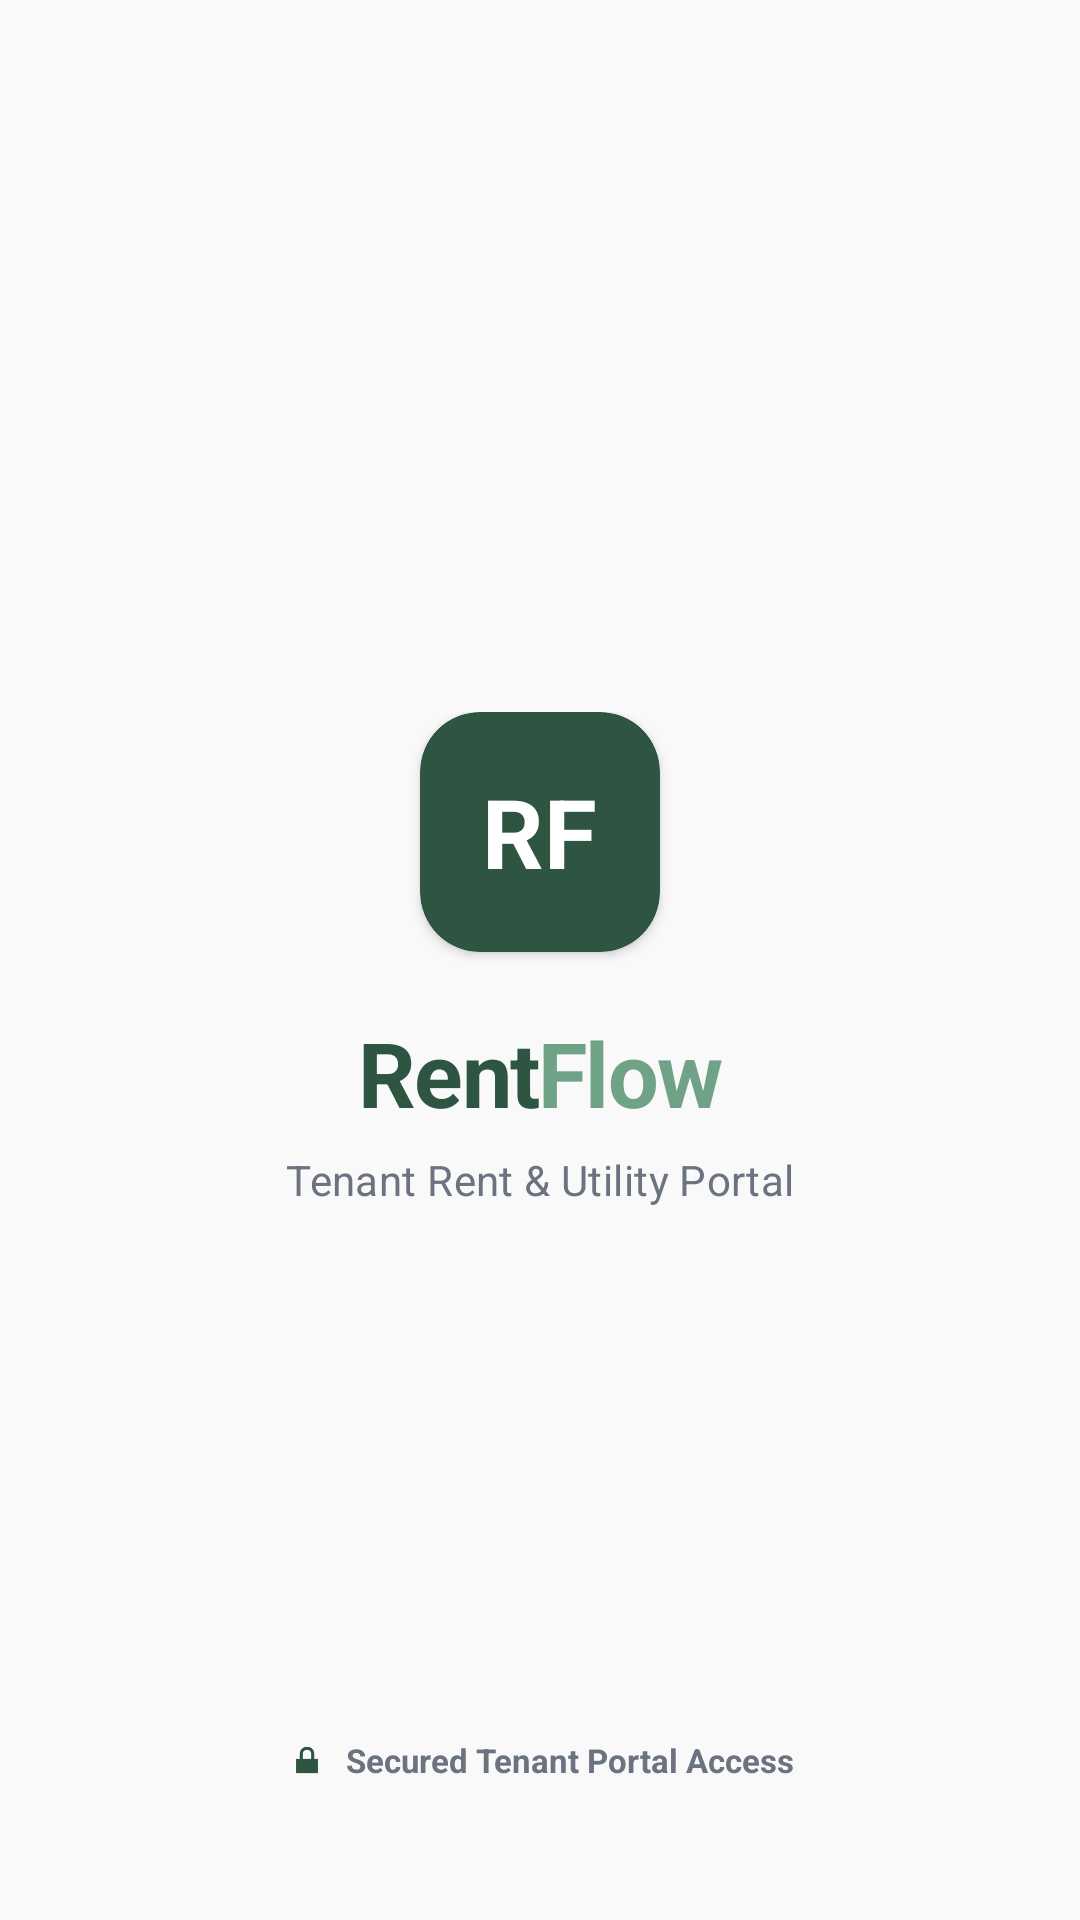

Named icons in this screenshot (1080w x 1920h) and their centers, [x,y]:
Secure Icon: [307,1760]
